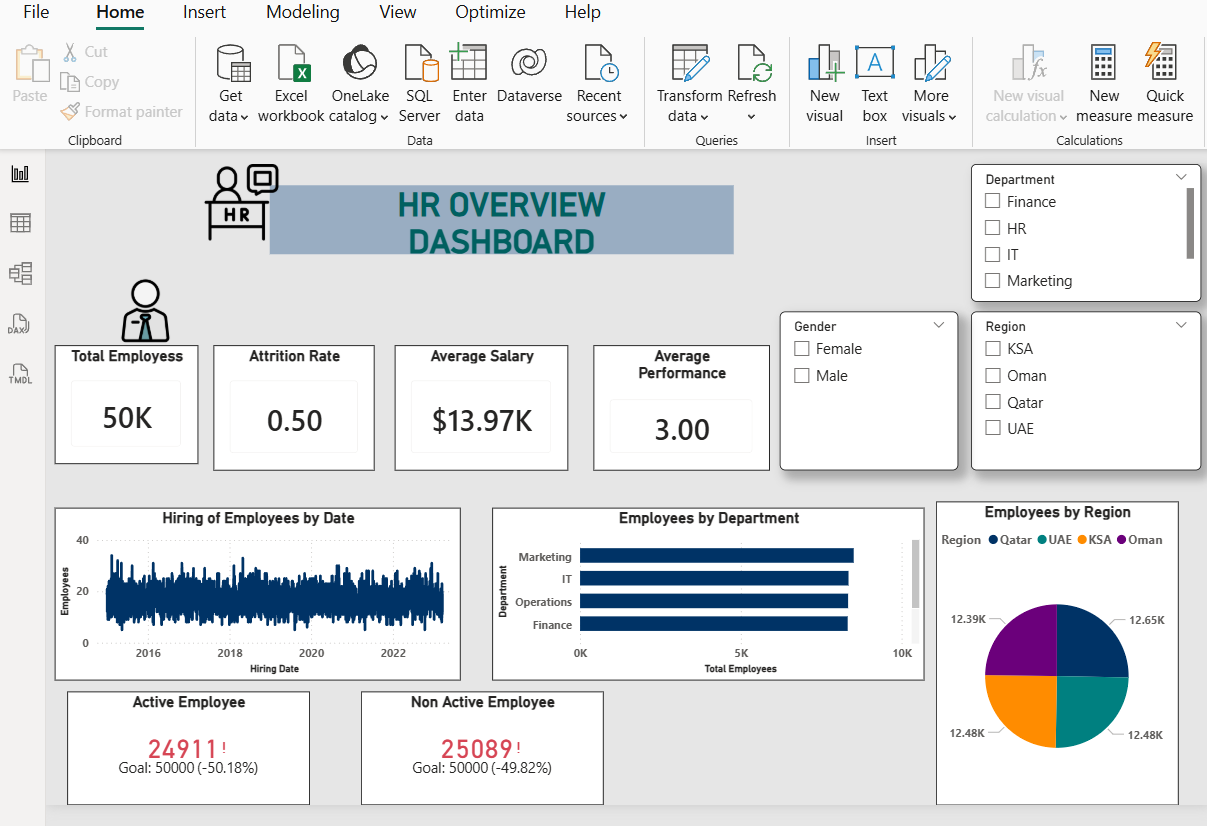

The page's visual inventory and layout, read from the dashboard file:
{"tool":"powerbi","page":{"name":"Page 1","canvas":[1280,720],"ordinal":0},"visuals":[{"type":"cardVisual","title":"Total Employess","fields":{"Data":["Measure.Total_Employees"]},"box":[9.6,215.4,157.8,130.4],"z":0},{"type":"cardVisual","title":"Average Salary","fields":{"Data":["Measure.Avg_salary"]},"box":[382.8,215.4,190.7,137.2],"z":1000},{"type":"cardVisual","title":"Attrition Rate","fields":{"Data":["Measure.Attrition_rate"]},"box":[183.9,215.4,177,137.2],"z":2000},{"type":"cardVisual","title":"Average Performance","fields":{"Data":["Measure.Avg_performance"]},"box":[601,215.4,193.5,137.2],"z":3000},{"type":"lineChart","title":"Hiring of Employees by Date","fields":{"Category":["HR_Data.Hire_Date"],"Y":["CountNonNull(HR_Data.Employee_ID)"]},"box":[9.6,393.8,446,189.4],"z":4000},{"type":"barChart","title":" Employees by Department","fields":{"Category":["HR_Data.Department"],"Y":["CountNonNull(HR_Data.Employee_ID)"]},"box":[489.9,393.8,474.8,189.4],"z":5000},{"type":"pieChart","title":"Employees by Region","fields":{"Y":["CountNonNull(HR_Data.Employee_ID)"],"Category":["HR_Data.Region"]},"box":[977,387,266.2,333.4],"z":6000},{"type":"textbox","title":"HR OVERVIEW DASHBOARD","box":[245.6,39.8,509.1,75.5],"z":7000},{"type":"image","box":[167.4,16.5,94.7,83.7],"z":8000},{"type":"image","box":[50.8,140,116.6,75.5],"z":9000},{"type":"kpi","title":"Active Employee","fields":{"Goal":["Measure.Target Employees"],"Indicator":["Measure.Active Employee"],"TrendLine":["HR_Data.Attrition"]},"box":[23.3,595.5,266.2,124.9],"z":10000},{"type":"kpi","title":"Non Active Employee","fields":{"Goal":["Measure.Target Employees"],"Indicator":["Measure.Attrition_count"],"TrendLine":["HR_Data.Attrition"]},"box":[345.8,595.5,266.2,124.9],"z":11000},{"type":"slicer","fields":{"Values":["HR_Data.Department"]},"box":[1015.4,16.5,252.5,150.9],"z":12000},{"type":"slicer","fields":{"Values":["HR_Data.Region"]},"box":[1015.4,178.4,252.5,174.3],"z":13000},{"type":"slicer","fields":{"Values":["HR_Data.Gender"]},"box":[805.5,178.4,196.2,174.3],"z":14000}]}

Visuals, with their boxes on the page's 1280x720 design canvas (x1, y1, x2, y2). These are canvas units, not pixel positions in the 1207x826 screenshot, which may show the page scaled, cropped or inside an application window:
"Total Employess" cardVisual: pyautogui.locateOnScreen(10, 215, 167, 346)
"Average Salary" cardVisual: pyautogui.locateOnScreen(383, 215, 574, 353)
"Attrition Rate" cardVisual: pyautogui.locateOnScreen(184, 215, 361, 353)
"Average Performance" cardVisual: pyautogui.locateOnScreen(601, 215, 794, 353)
"Hiring of Employees by Date" lineChart: pyautogui.locateOnScreen(10, 394, 456, 583)
" Employees by Department" barChart: pyautogui.locateOnScreen(490, 394, 965, 583)
"Employees by Region" pieChart: pyautogui.locateOnScreen(977, 387, 1243, 720)
"HR OVERVIEW DASHBOARD" textbox: pyautogui.locateOnScreen(246, 40, 755, 115)
image: pyautogui.locateOnScreen(167, 16, 262, 100)
image: pyautogui.locateOnScreen(51, 140, 167, 216)
"Active Employee" kpi: pyautogui.locateOnScreen(23, 596, 290, 720)
"Non Active Employee" kpi: pyautogui.locateOnScreen(346, 596, 612, 720)
slicer - HR_Data.Department: pyautogui.locateOnScreen(1015, 16, 1268, 167)
slicer - HR_Data.Region: pyautogui.locateOnScreen(1015, 178, 1268, 353)
slicer - HR_Data.Gender: pyautogui.locateOnScreen(806, 178, 1002, 353)
